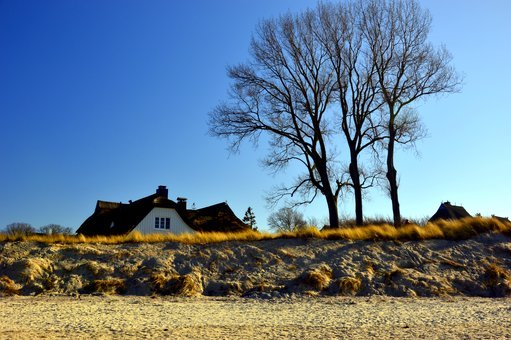field: (6, 230, 510, 338)
house: (88, 186, 254, 232)
tree: (239, 15, 442, 225)
